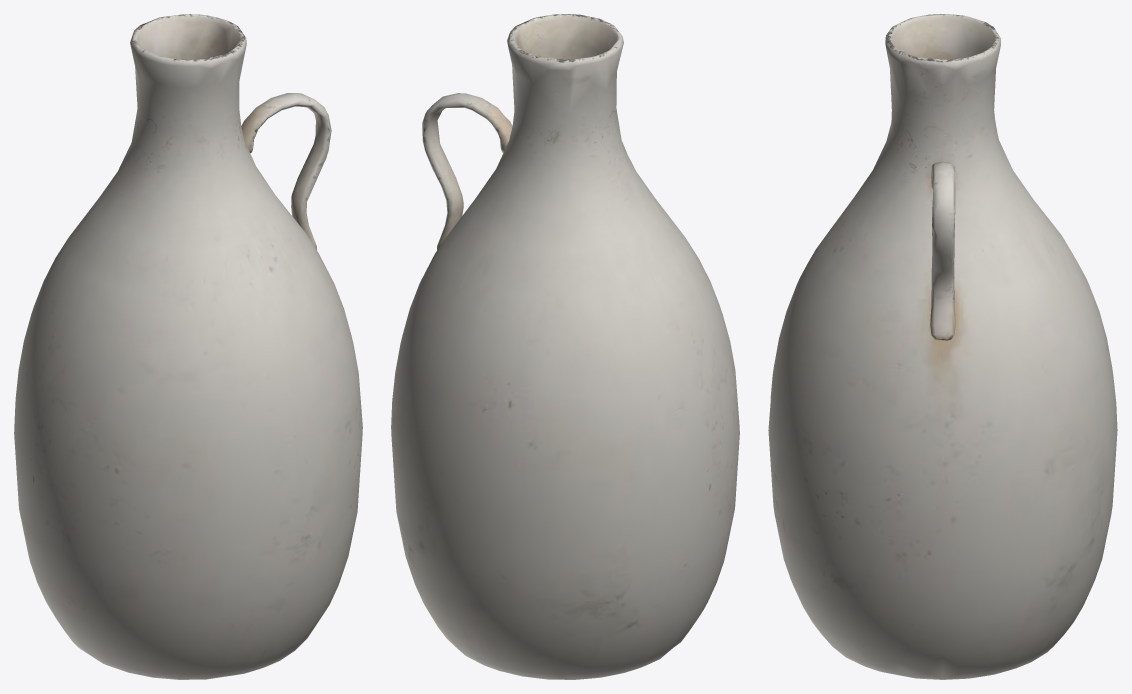
Rendered from vase-bud-sand.glb.
The picture shows the model from 3 angles, left to right: view 1: azimuth 30°, elevation 25°; view 2: azimuth 150°, elevation 25°; view 3: azimuth 270°, elevation 25°; orthographic projection.
Parts seen in each view (by area): view 1: ceramic_vase_04; view 2: ceramic_vase_04; view 3: ceramic_vase_04.
Part boxes in pixels (x1,y1,x2,y2): ceramic_vase_04: (14,14,362,679); ceramic_vase_04: (391,14,739,679); ceramic_vase_04: (768,14,1117,679).
Size of the model in its own units: 0.1811 by 0.3419 by 0.1811.
Materials: 1 (1 with a texture image).
